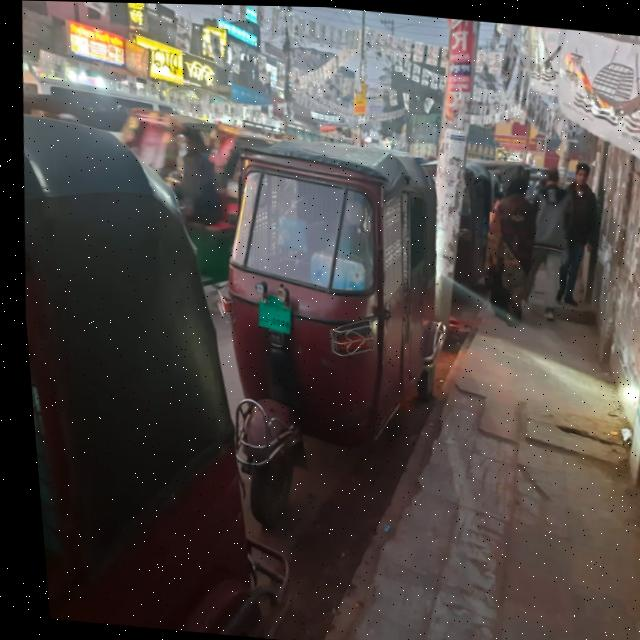cng: (193, 105, 489, 500)
